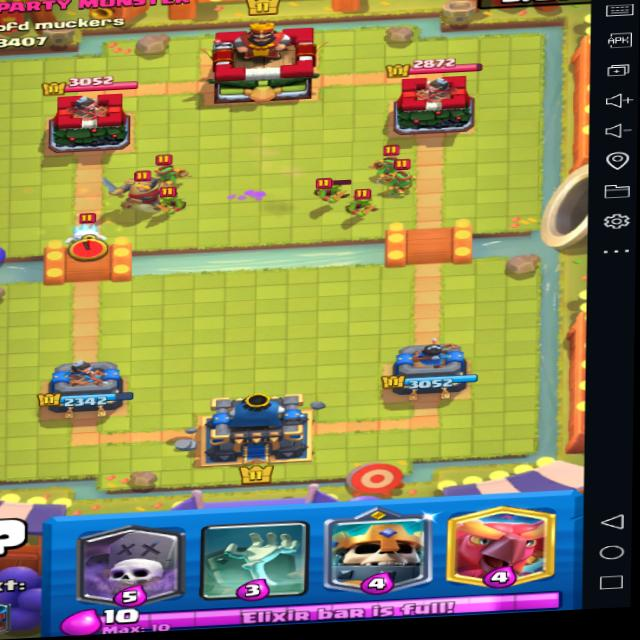goblin: (302, 170, 351, 203), (156, 190, 190, 219), (338, 191, 371, 219)
ice-spirit: (54, 208, 113, 258)
knight: (106, 157, 161, 216)
spear-goblin: (360, 141, 404, 184), (146, 153, 188, 187), (392, 163, 418, 203)
